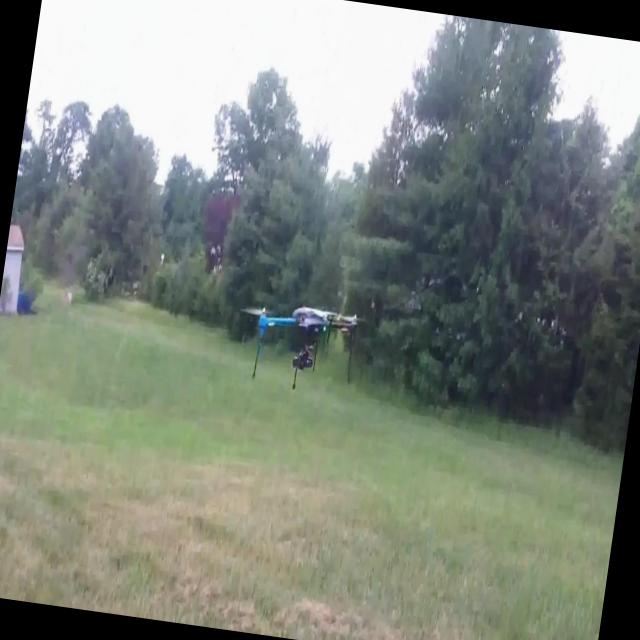drone: (230, 294, 364, 398)
